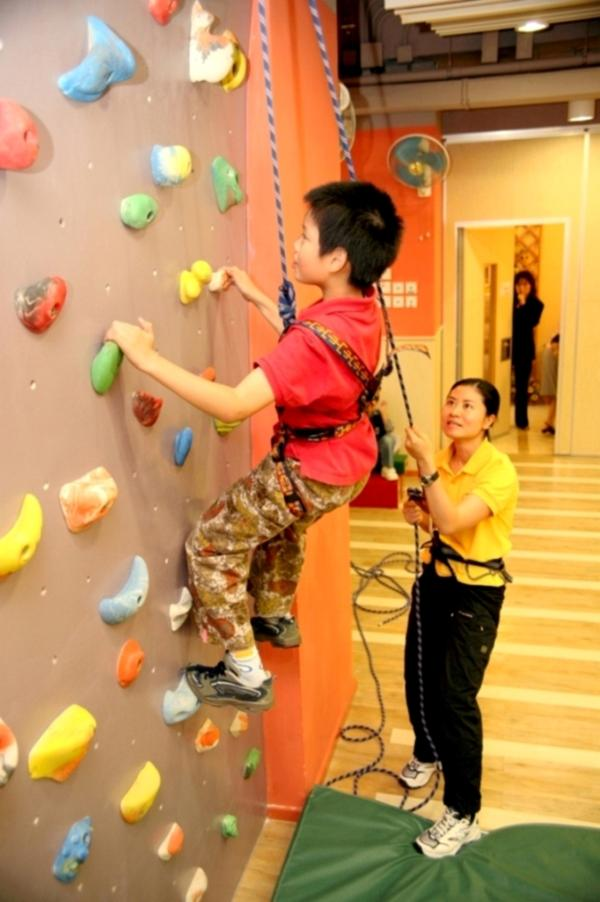person: (102, 181, 405, 711)
